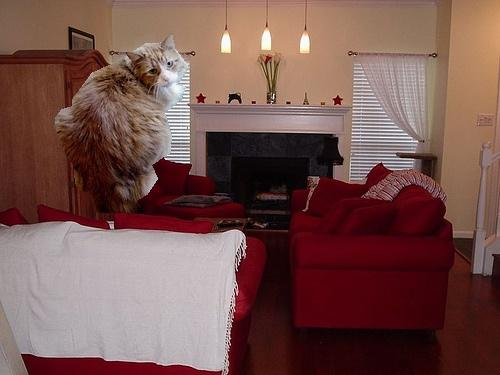tampered: (55, 33, 189, 213)
